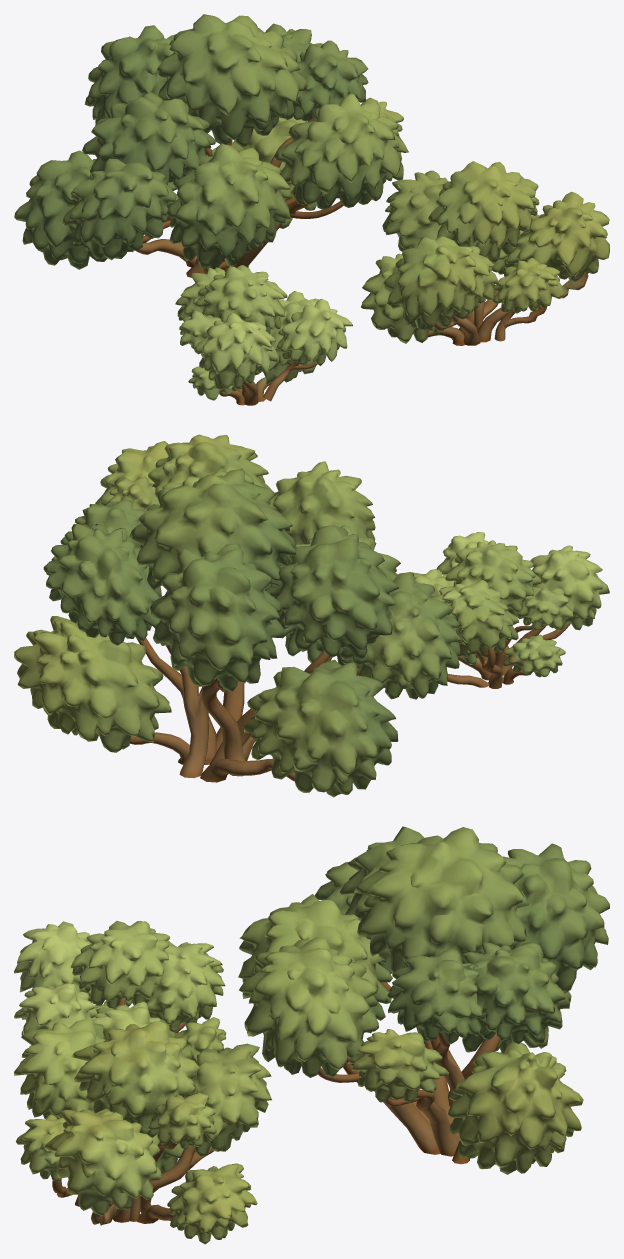
Rendered from workshop-shrubs.glb.
The picture shows the model from 3 angles, top to bottom: view 1: azimuth 30°, elevation 25°; view 2: azimuth 150°, elevation 25°; view 3: azimuth 270°, elevation 25°; orthographic projection. The views are drawn at different scales.
Parts seen in each view (by area): view 1: tripo_node_2b5df9ab-1e80-4a96-a945-303a55a40989; view 2: tripo_node_2b5df9ab-1e80-4a96-a945-303a55a40989; view 3: tripo_node_2b5df9ab-1e80-4a96-a945-303a55a40989.
Part boxes in pixels (bbox=[...]): tripo_node_2b5df9ab-1e80-4a96-a945-303a55a40989: bbox=[14, 14, 609, 405]; tripo_node_2b5df9ab-1e80-4a96-a945-303a55a40989: bbox=[14, 434, 609, 797]; tripo_node_2b5df9ab-1e80-4a96-a945-303a55a40989: bbox=[14, 826, 609, 1244].
Bounding box in the file's own units: 1.47 × 0.85 × 1.47.
1 material, 1 textured.
